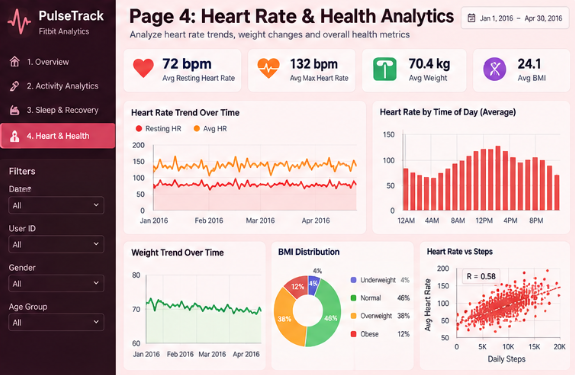

This screenshot's page, from the dashboard's own definition file:
{"tool":"powerbi","page":{"name":"Heart & Health","canvas":[1280,720],"ordinal":3},"visuals":[{"type":"shape","box":[0,0,200,720],"z":0},{"type":"shape","box":[12,210,176,36],"z":1000},{"type":"textbox","box":[14,14,180,52],"z":2000},{"type":"textbox","box":[20,89,168,28],"z":3000},{"type":"textbox","box":[20,131,168,28],"z":4000},{"type":"textbox","box":[20,173,168,28],"z":5000},{"type":"textbox","box":[20,215,168,28],"z":6000},{"type":"actionButton","box":[12,84,176,36],"z":7000},{"type":"actionButton","box":[12,126,176,36],"z":8000},{"type":"actionButton","box":[12,168,176,36],"z":9000},{"type":"actionButton","box":[12,210,176,36],"z":10000},{"type":"textbox","box":[13.9,262.2,170.2,32.1],"z":11000},{"type":"slicer","title":"User ID","fields":{"Values":["dim_user.UserLabel"]},"box":[12,294,176,58],"z":12000},{"type":"slicer","title":"Activity Segment","fields":{"Values":["dim_user.ActivitySegment"]},"box":[12,358,176,58],"z":13000},{"type":"slicer","title":"Weekday","fields":{"Values":["dim_date.WeekdayName"]},"box":[12,422,176,58],"z":14000},{"type":"textbox","box":[216.2,0,703.1,54.6],"z":15000},{"type":"textbox","box":[216.2,39.6,760.9,30],"z":16000},{"type":"slicer","fields":{"Values":["dim_date.Date"]},"box":[1000,14,264,52],"z":17000},{"type":"card","title":"Avg Resting Heart Rate (bpm)","fields":{"Values":["_Measures.Resting HR (approx)"]},"box":[216,82,253,88],"z":18000},{"type":"card","title":"Max Heart Rate (bpm)","fields":{"Values":["_Measures.Max HR"]},"box":[481,82,253,88],"z":19000},{"type":"card","title":"Avg Weight (kg)","fields":{"Values":["_Measures.Avg Weight Kg"]},"box":[746,82,253,88],"z":20000},{"type":"card","title":"Avg BMI","fields":{"Values":["_Measures.Avg BMI"]},"box":[1011,82,253,88],"z":21000},{"type":"lineChart","title":"Heart Rate Trend Over Time","fields":{"Category":["dim_date.Date"],"Y":["_Measures.Resting HR (approx)","_Measures.Avg HR"]},"box":[216,182,640,250],"z":22000},{"type":"clusteredColumnChart","title":"Heart Rate by Time of Day (Average)","fields":{"Category":["fact_heartrate_minute.Hour"],"Y":["_Measures.Avg HR"]},"box":[868,182,396,250],"z":23000},{"type":"lineChart","title":"Weight Trend Over Time","fields":{"Category":["dim_date.Date"],"Y":["_Measures.Avg Weight Kg"]},"box":[216,444,340,264],"z":24000},{"type":"clusteredColumnChart","title":"Avg BMI by Activity Segment","fields":{"Category":["dim_user.ActivitySegment"],"Y":["_Measures.Avg BMI"]},"box":[568,444,340,264],"z":25000},{"type":"scatterChart","title":"Heart Rate vs Steps","fields":{"Category":["dim_user.UserLabel"],"X":["_Measures.Avg Daily Steps"],"Y":["_Measures.Avg HR"]},"box":[920,444,344,264],"z":26000}]}

Visuals, with their boxes on the page's 1280x720 design canvas (x1, y1, x2, y2). These are canvas units, not pixel positions in the 575x375 screenshot, which may show the page scaled, cropped or inside an application window:
shape: [0, 0, 200, 720]
shape: [12, 210, 188, 246]
textbox: [14, 14, 194, 66]
textbox: [20, 89, 188, 117]
textbox: [20, 131, 188, 159]
textbox: [20, 173, 188, 201]
textbox: [20, 215, 188, 243]
actionButton: [12, 84, 188, 120]
actionButton: [12, 126, 188, 162]
actionButton: [12, 168, 188, 204]
actionButton: [12, 210, 188, 246]
textbox: [14, 262, 184, 294]
"User ID" slicer: [12, 294, 188, 352]
"Activity Segment" slicer: [12, 358, 188, 416]
"Weekday" slicer: [12, 422, 188, 480]
textbox: [216, 0, 919, 55]
textbox: [216, 40, 977, 70]
slicer - dim_date.Date: [1000, 14, 1264, 66]
"Avg Resting Heart Rate (bpm)" card: [216, 82, 469, 170]
"Max Heart Rate (bpm)" card: [481, 82, 734, 170]
"Avg Weight (kg)" card: [746, 82, 999, 170]
"Avg BMI" card: [1011, 82, 1264, 170]
"Heart Rate Trend Over Time" lineChart: [216, 182, 856, 432]
"Heart Rate by Time of Day (Average)" clusteredColumnChart: [868, 182, 1264, 432]
"Weight Trend Over Time" lineChart: [216, 444, 556, 708]
"Avg BMI by Activity Segment" clusteredColumnChart: [568, 444, 908, 708]
"Heart Rate vs Steps" scatterChart: [920, 444, 1264, 708]
